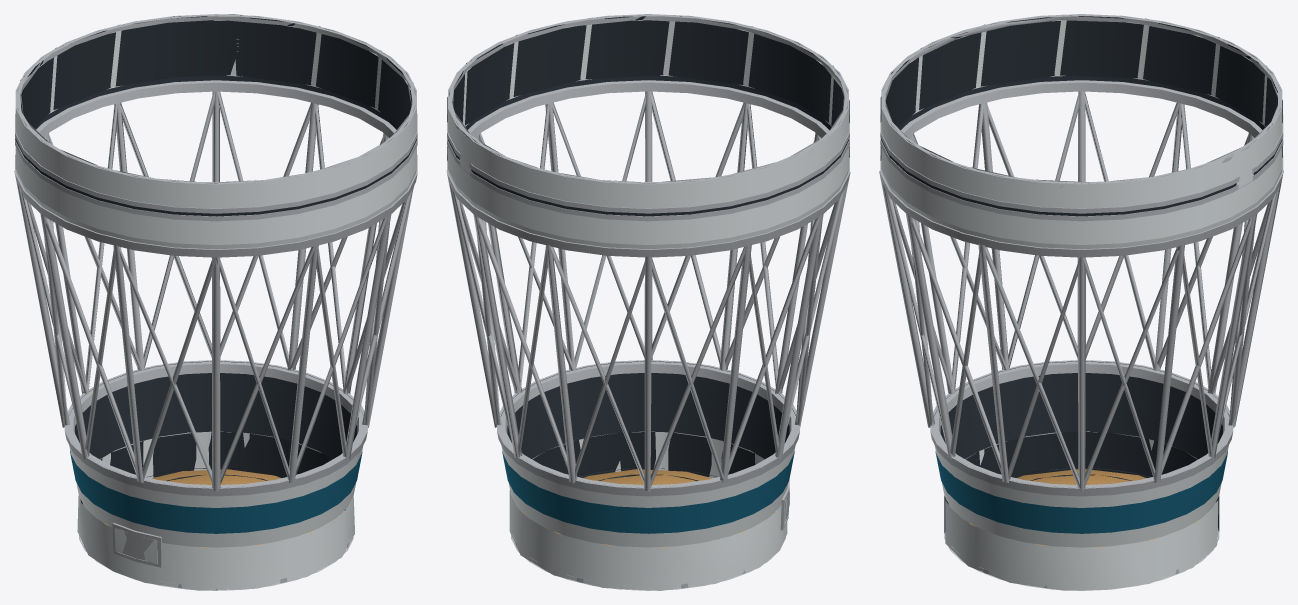
File: interstage_hot_staging_d37_to_d54.glb
3 renders of one model, left to right at view 1: azimuth 30°, elevation 25°; view 2: azimuth 150°, elevation 25°; view 3: azimuth 270°, elevation 25°, orthographic.
Parts seen in each view (by area): view 1: interstage_hot_staging_d37_to_d54_mesh; view 2: interstage_hot_staging_d37_to_d54_mesh; view 3: interstage_hot_staging_d37_to_d54_mesh.
Part boxes in pixels (x1=…): interstage_hot_staging_d37_to_d54_mesh: x1=14, y1=14, x2=417, y2=590; interstage_hot_staging_d37_to_d54_mesh: x1=446, y1=14, x2=850, y2=590; interstage_hot_staging_d37_to_d54_mesh: x1=879, y1=14, x2=1283, y2=590.
Size of the model in its own units: 5.42 by 6.4 by 5.42.
